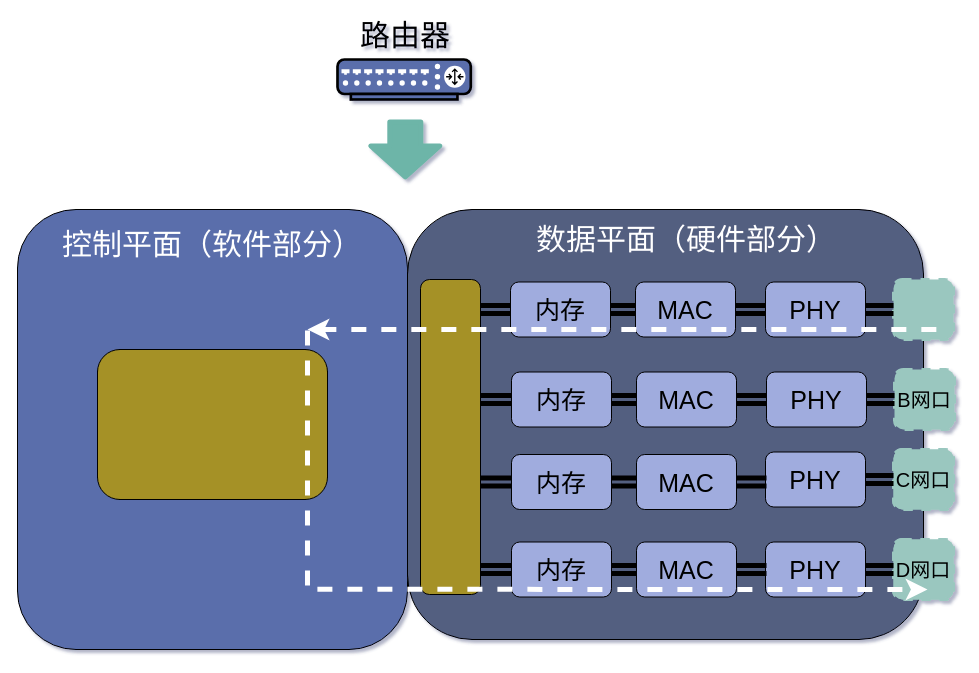
Some shapes in this 979 by 673 pixel diagram are drawn without their labels. Here are the shapes that lost their labels. From the top down, the centre of each, then its label:
(923,309): A网口
(212,424): 路由选择 处理器
(450,436): 交换结构
